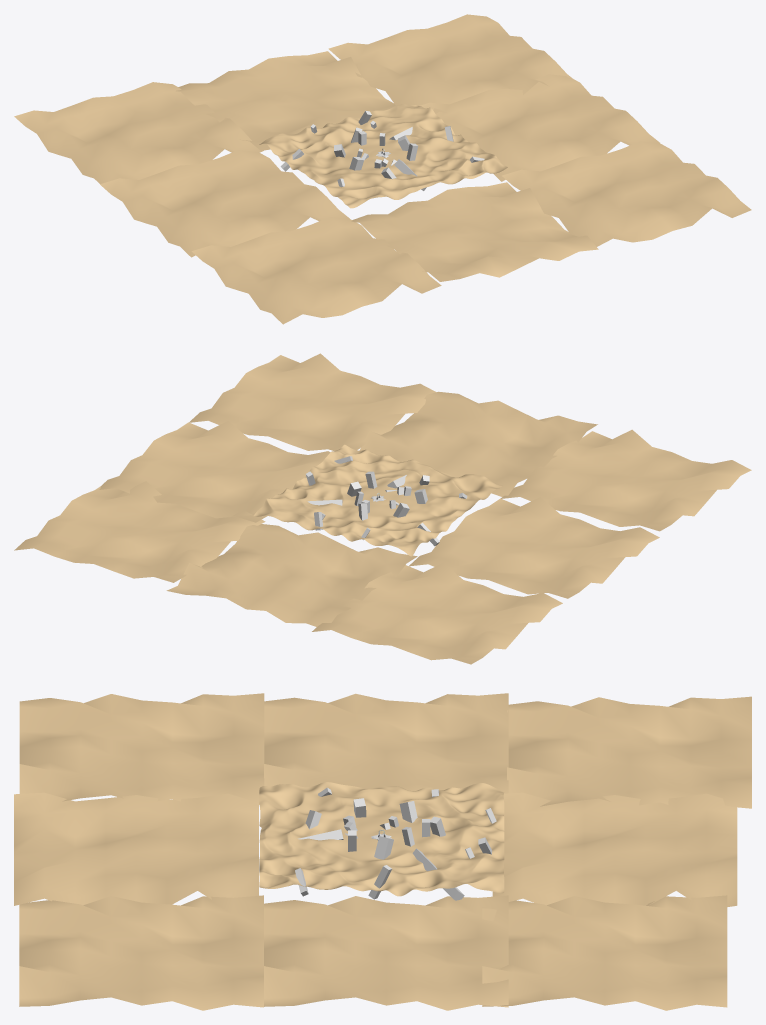
Rendered from LevelAlienDesert.fbx.
3 renders of one model, top to bottom at view 1: azimuth 30°, elevation 25°; view 2: azimuth 150°, elevation 25°; view 3: azimuth 270°, elevation 25°, orthographic. The views are drawn at different scales.
Parts seen in each view (by area): view 1: Plane.007, Plane.006, Plane.003, Plane.008, Plane.002, Plane.001, Plane.005, Plane, Plane.004; view 2: Plane.003, Plane.007, Plane.004, Plane.008, Plane.006, Plane.001, Plane, Plane.002, Plane.005; view 3: Plane.006, Plane.002, Plane.005, Plane.007, Plane.008, Plane.004, Plane.001, Plane, Plane.003.
Boxes of the visible parts, <box> form: Plane.007: <box>191,217,441,324</box>; Plane.006: <box>502,141,751,246</box>; Plane.003: <box>100,150,349,257</box>; Plane.008: <box>14,82,263,183</box>; Plane.002: <box>351,182,598,281</box>; Plane.001: <box>328,14,572,113</box>; Plane.005: <box>419,74,659,181</box>; Plane: <box>259,104,507,208</box>; Plane.004: <box>176,51,395,150</box>; Plane.003: <box>409,497,659,598</box>; Plane.007: <box>501,429,751,531</box>; Plane.004: <box>166,524,417,626</box>; Plane.008: <box>312,562,562,664</box>; Plane.006: <box>189,353,436,450</box>; Plane.001: <box>14,481,265,582</box>; Plane: <box>253,444,502,556</box>; Plane.002: <box>359,391,597,496</box>; Plane.005: <box>99,421,330,522</box>; Plane.006: <box>19,895,263,1010</box>; Plane.002: <box>14,792,258,905</box>; Plane.005: <box>264,895,508,1010</box>; Plane.007: <box>19,693,264,804</box>; Plane.008: <box>507,696,751,808</box>; Plane.004: <box>492,792,737,906</box>; Plane.001: <box>482,895,727,1010</box>; Plane: <box>259,782,504,896</box>; Plane.003: <box>264,693,508,793</box>.
Bounding box in the file's own units: 590800 × 40453 × 602700.
